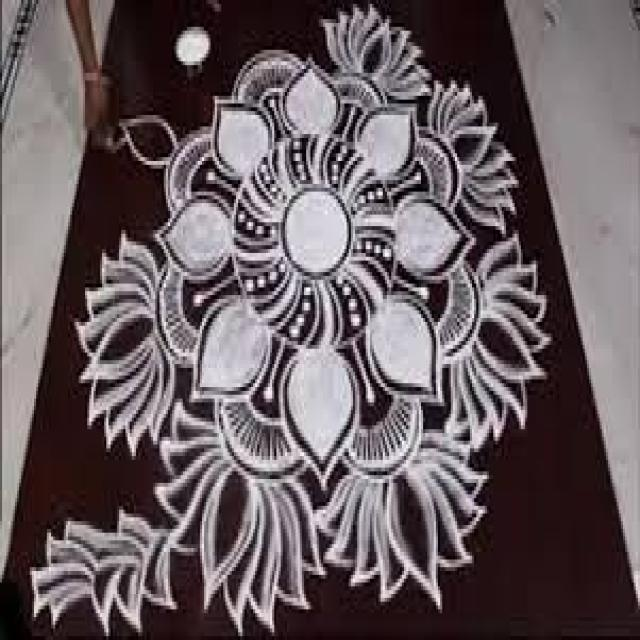rangoli: (32, 7, 550, 640)
